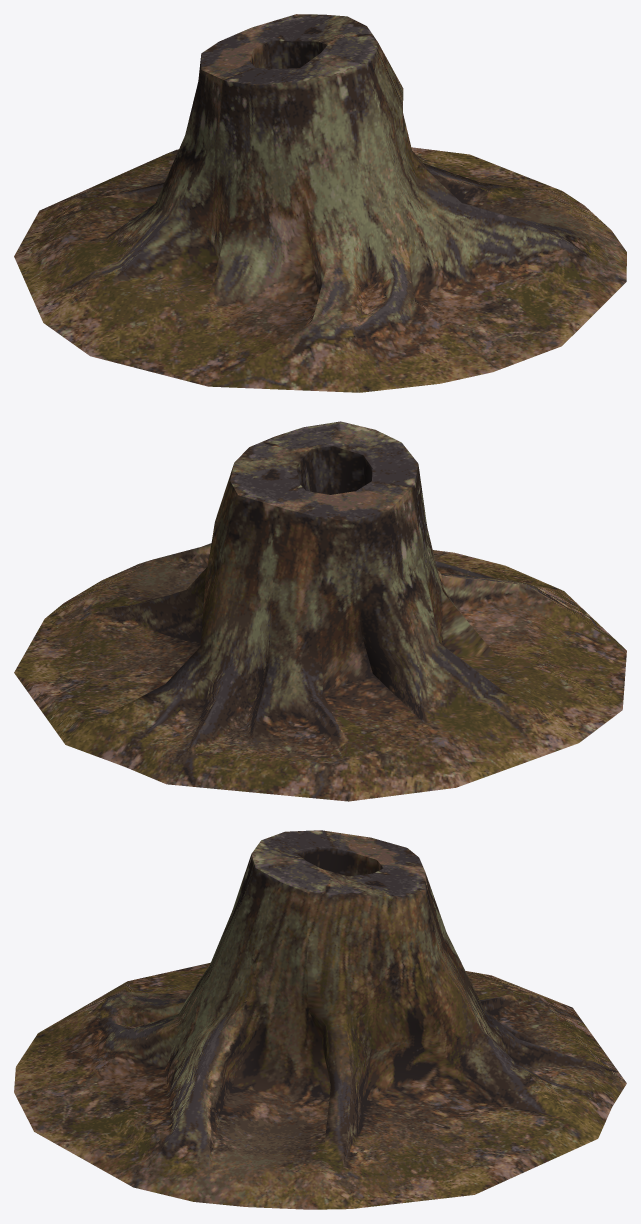
Rendered from SM_FOL_TreeStump_01_A.fbx.
The picture shows the model from 3 angles, top to bottom: view 1: azimuth 30°, elevation 25°; view 2: azimuth 150°, elevation 25°; view 3: azimuth 270°, elevation 25°; orthographic projection.
Visible parts, largest first — view 1: SM_FOL_TreeStump_01_A; view 2: SM_FOL_TreeStump_01_A; view 3: SM_FOL_TreeStump_01_A.
Part boxes in pixels (x1=…): SM_FOL_TreeStump_01_A: x1=14, y1=14, x2=626, y2=392; SM_FOL_TreeStump_01_A: x1=14, y1=421, x2=626, y2=801; SM_FOL_TreeStump_01_A: x1=14, y1=830, x2=626, y2=1209.
Bounding box in the file's own units: 181 × 73.07 × 183.
1 material, 1 textured.
